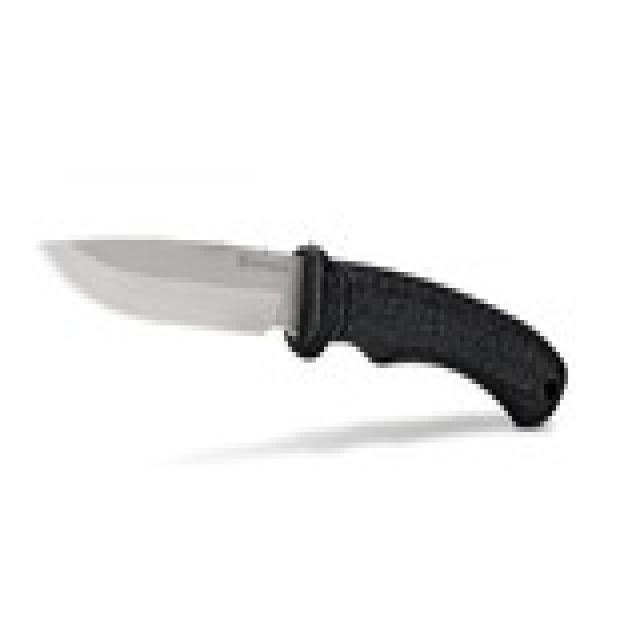Knife: (26, 206, 570, 437)
